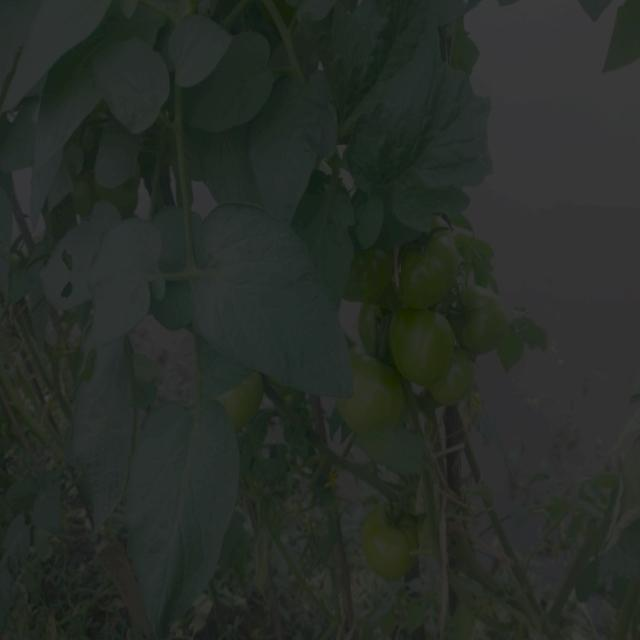tomato: (393, 228, 458, 307), (367, 502, 428, 586), (326, 367, 400, 435), (201, 367, 271, 425), (391, 316, 460, 369), (77, 167, 147, 218), (467, 289, 511, 352), (355, 271, 388, 352), (430, 378, 485, 405)
